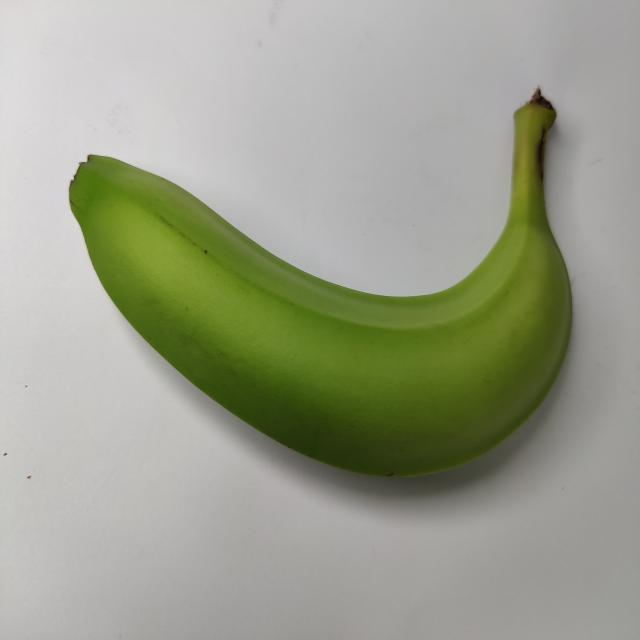raw: (64, 46, 598, 549)
